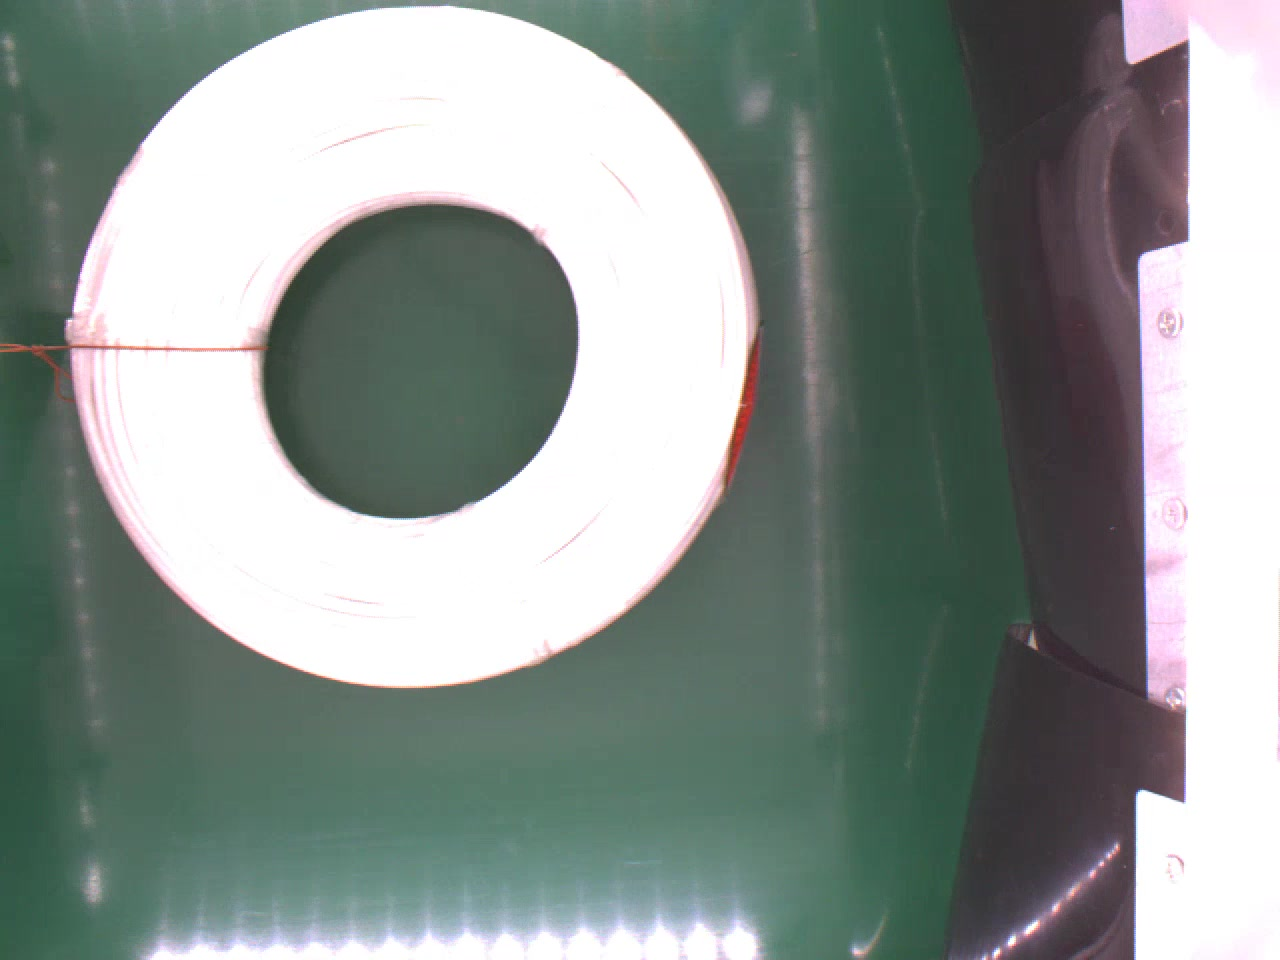white: (68, 9, 772, 681)
